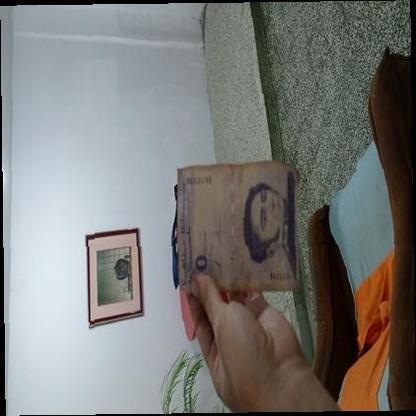ten-front-vef: (177, 164, 299, 292)
